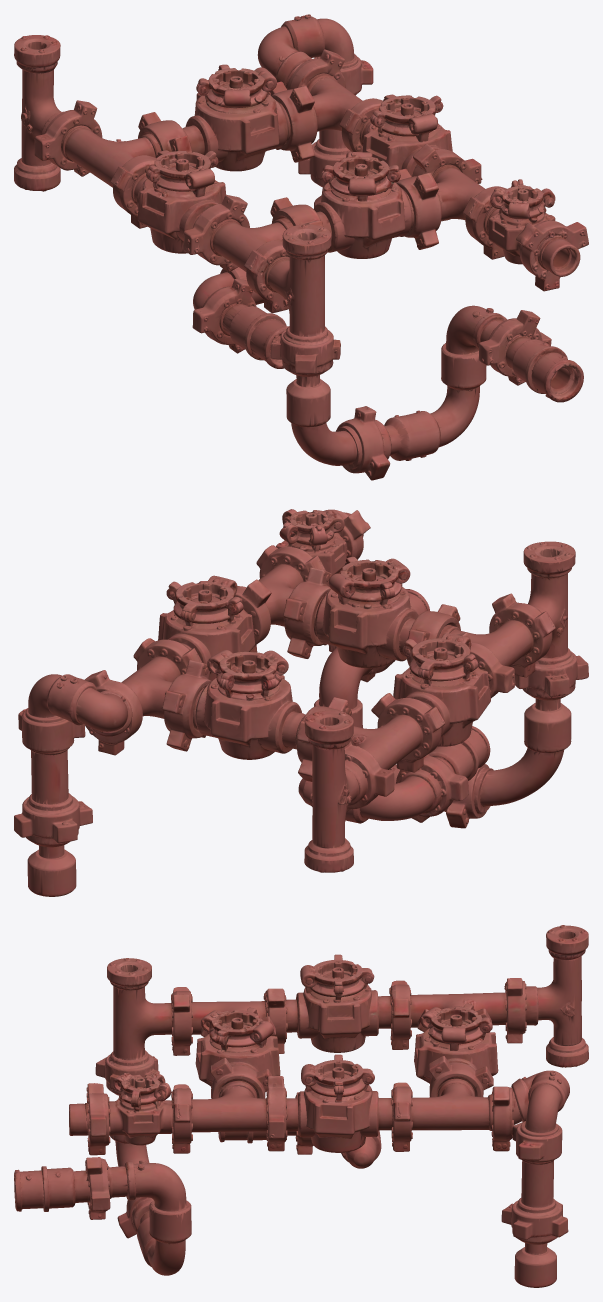
File: descargaManifolds.glb
3 renders of one model, top to bottom at view 1: azimuth 30°, elevation 25°; view 2: azimuth 150°, elevation 25°; view 3: azimuth 270°, elevation 25°, orthographic. The views are drawn at different scales.
Visible parts, largest first — view 1: tripo_node_2c1ea05e-9658-4c25-859d-878926f3b049; view 2: tripo_node_2c1ea05e-9658-4c25-859d-878926f3b049; view 3: tripo_node_2c1ea05e-9658-4c25-859d-878926f3b049.
Boxes of the visible parts, x1,y1,x2,y2 form: tripo_node_2c1ea05e-9658-4c25-859d-878926f3b049: [14, 14, 588, 480]; tripo_node_2c1ea05e-9658-4c25-859d-878926f3b049: [14, 509, 588, 896]; tripo_node_2c1ea05e-9658-4c25-859d-878926f3b049: [14, 925, 588, 1287].
Bounding box in the file's own units: 0.6137 × 0.4943 × 0.9801.
Materials: 1 (1 with a texture image).
